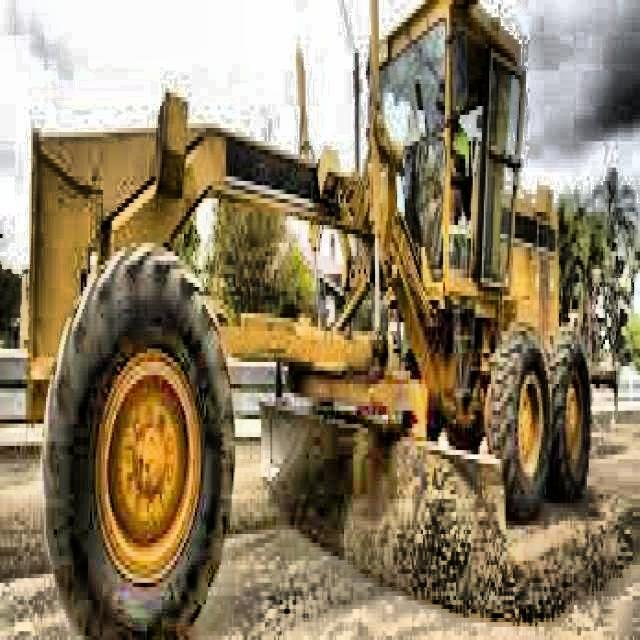bull_dozer/loader/grader: (23, 0, 593, 640)
person: (432, 88, 473, 198)
